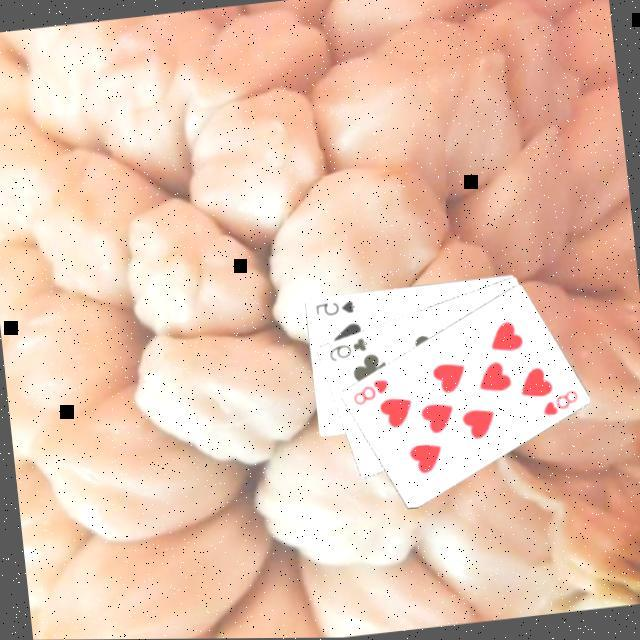5S: (308, 295, 356, 319)
6C: (321, 333, 369, 365)
8H: (346, 374, 392, 408), (534, 386, 580, 420)
